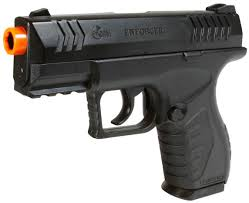gun: (2, 4, 245, 195)
